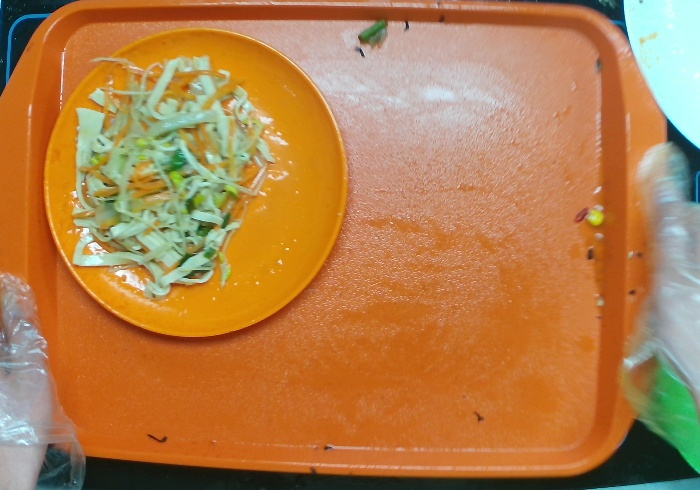HZYJPL-Ju_Huang_Yuan_Pan: (41, 27, 352, 341)
